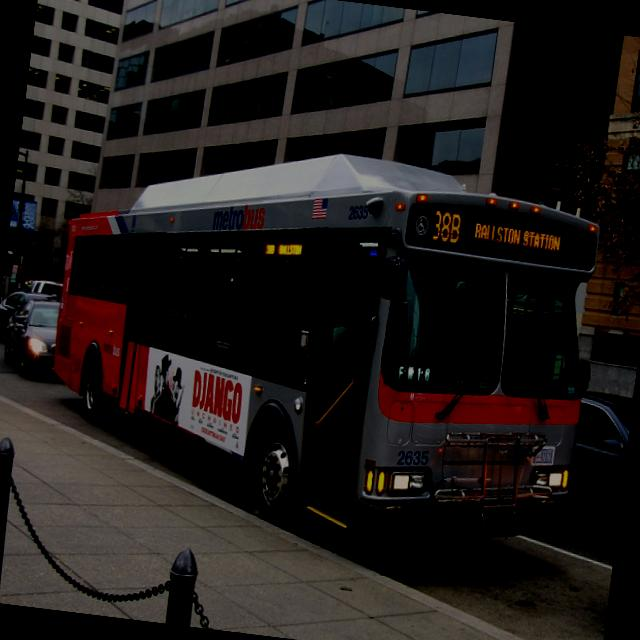Vehicle: (32, 119, 622, 576), (563, 388, 633, 523), (0, 293, 63, 380), (0, 286, 53, 347), (32, 280, 62, 299), (0, 274, 9, 308)
